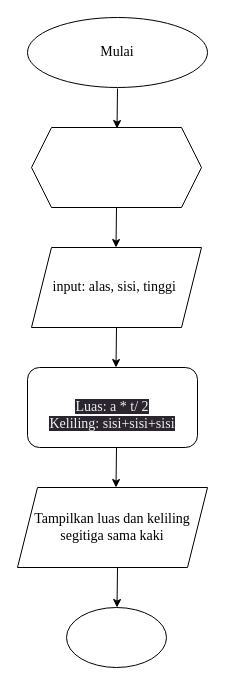
This 225x685 diagram has some shape labels left out. Each missing label, with the centre of its shape:
Int alas, tinggi,sisi, luas, keliling: the point at 116,167
Selesai: the point at 116,637
